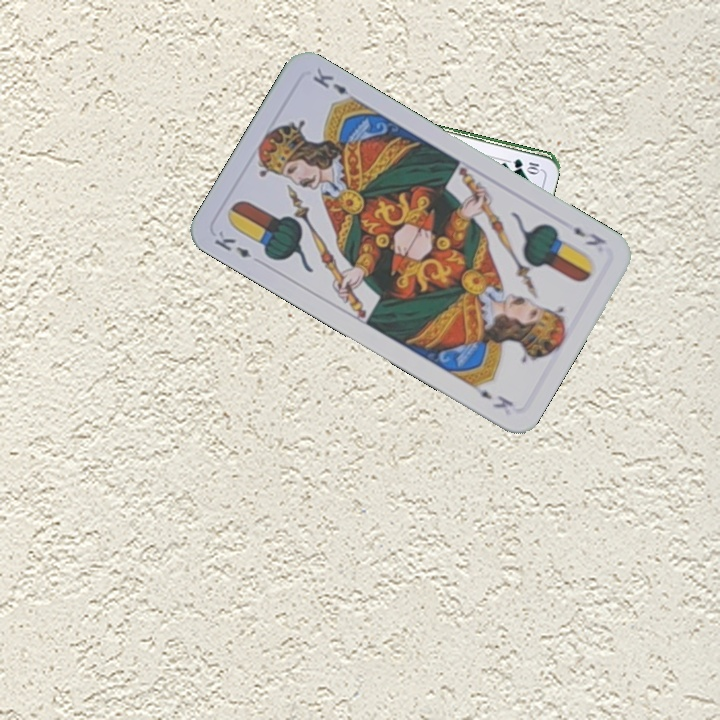EK: (210, 227, 254, 261), (569, 222, 609, 249)
G10: (509, 155, 544, 173)
